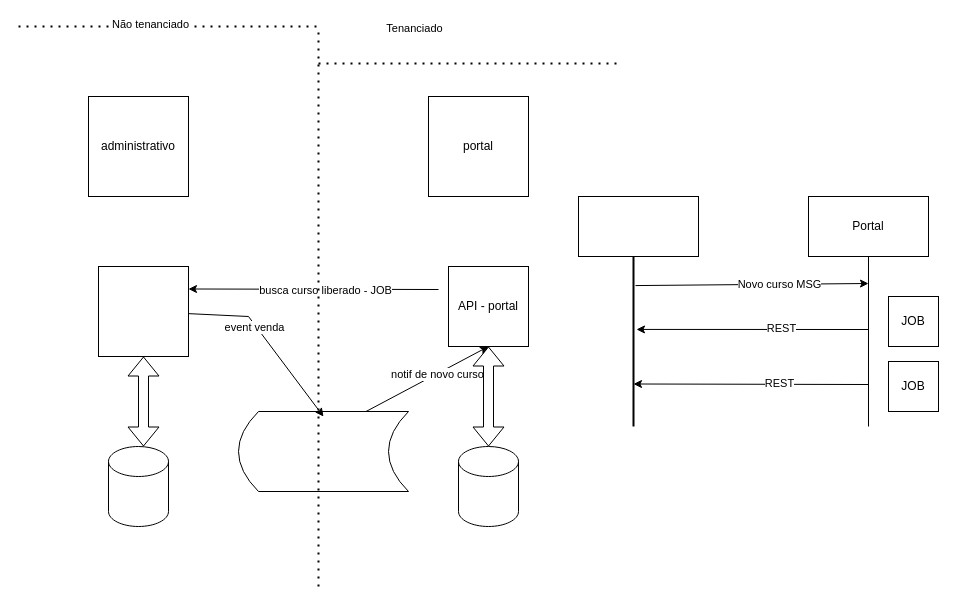
Some shapes in this 956 by 605 pixel diagram are drawn without their labels. Here are the shapes that lost their labels. From the top down, the box of each, then its label:
(578, 196, 698, 256): Venda
(98, 266, 188, 356): API - adm
(238, 410, 408, 492): Serverbus venda
